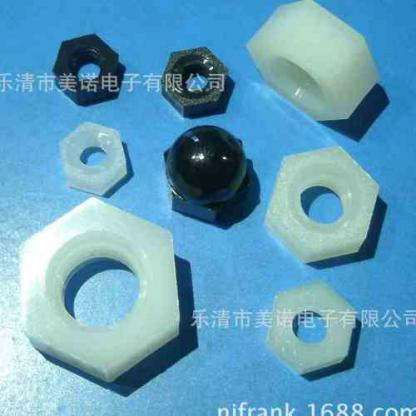FOD: (19, 195, 182, 387), (244, 0, 381, 126), (264, 142, 381, 266), (264, 279, 358, 380), (57, 118, 129, 197), (160, 44, 230, 121), (50, 32, 121, 104)
